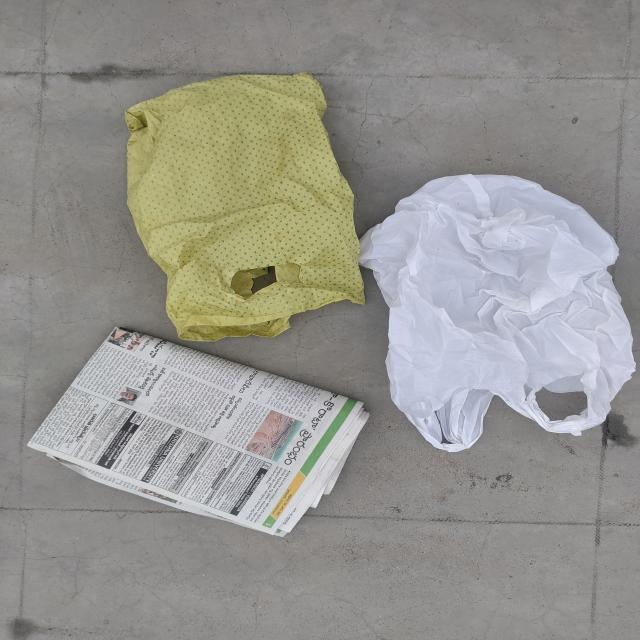paper: (8, 331, 366, 544)
plastic: (374, 169, 640, 442), (74, 72, 360, 321)
